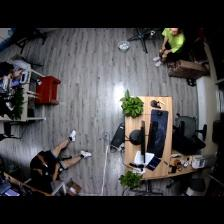normal: (29, 130, 91, 179), (155, 27, 184, 69), (1, 56, 28, 75)
